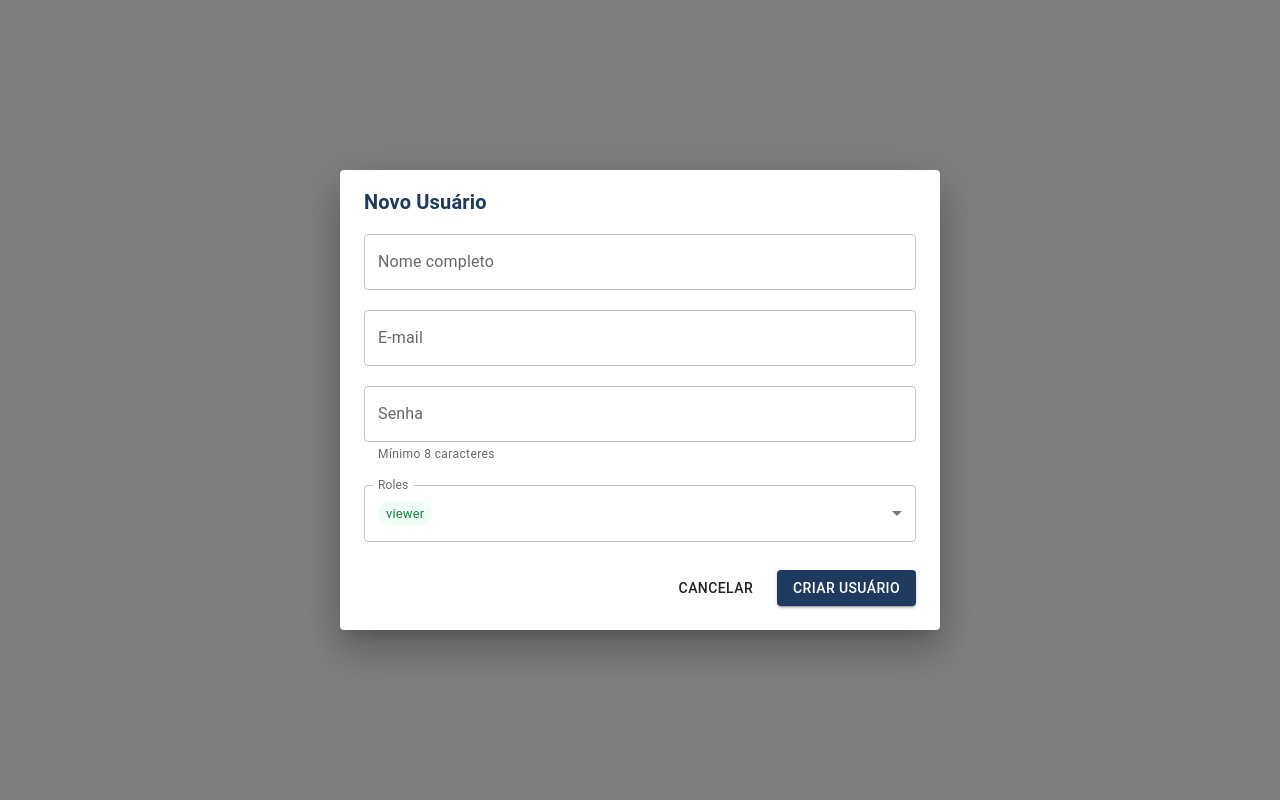
Test case: UserForm › exibe erros de validação para campos obrigatórios vazios
Click the button "Criar usuário" at (846, 588), box [777, 570, 916, 606]
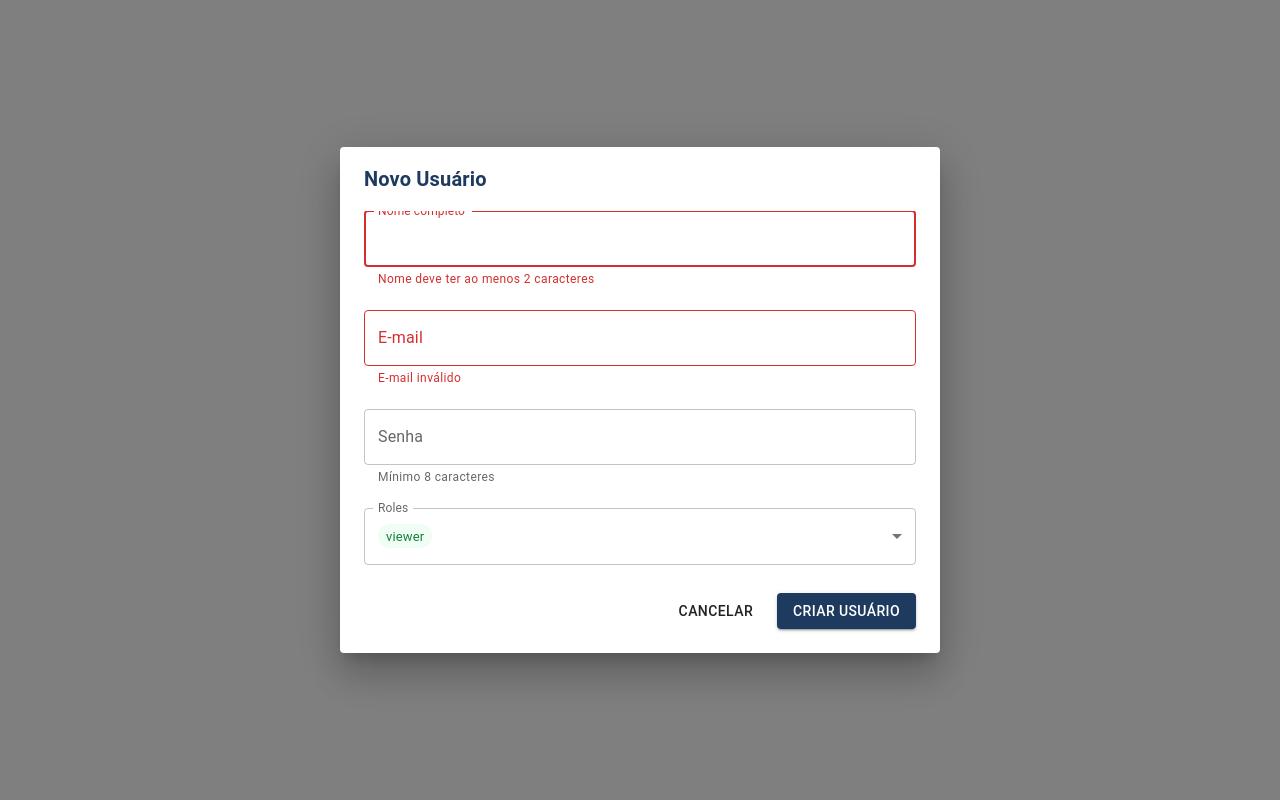
expect the text "Nome deve ter ao menos 2 caracteres" is shown: met, box [378, 272, 595, 286]
